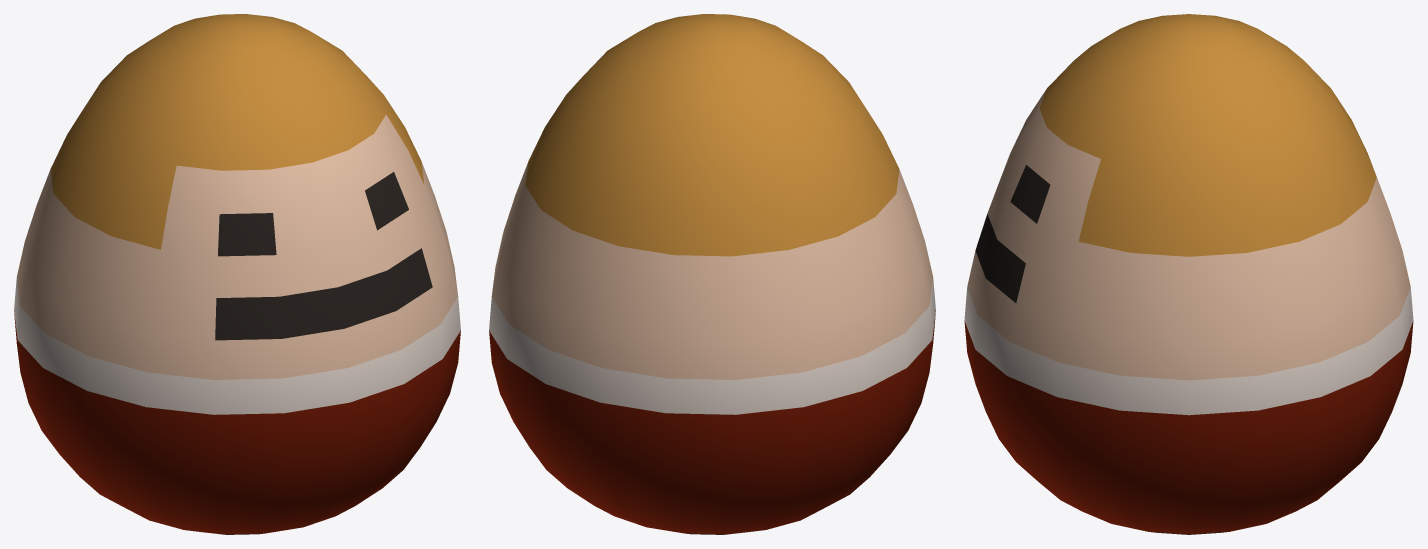
File: weeblking.fbx
The picture shows the model from 3 angles, left to right: view 1: azimuth 30°, elevation 25°; view 2: azimuth 150°, elevation 25°; view 3: azimuth 270°, elevation 25°; orthographic projection.
Visible parts, largest first — view 1: pSphere1; view 2: pSphere1; view 3: pSphere1.
Part boxes in pixels (left/top/right/bottom): pSphere1: left=14, top=14, right=460, bottom=534; pSphere1: left=489, top=14, right=935, bottom=534; pSphere1: left=964, top=14, right=1413, bottom=534.
Bounding box in the file's own units: 80.2 × 94.76 × 80.2.
